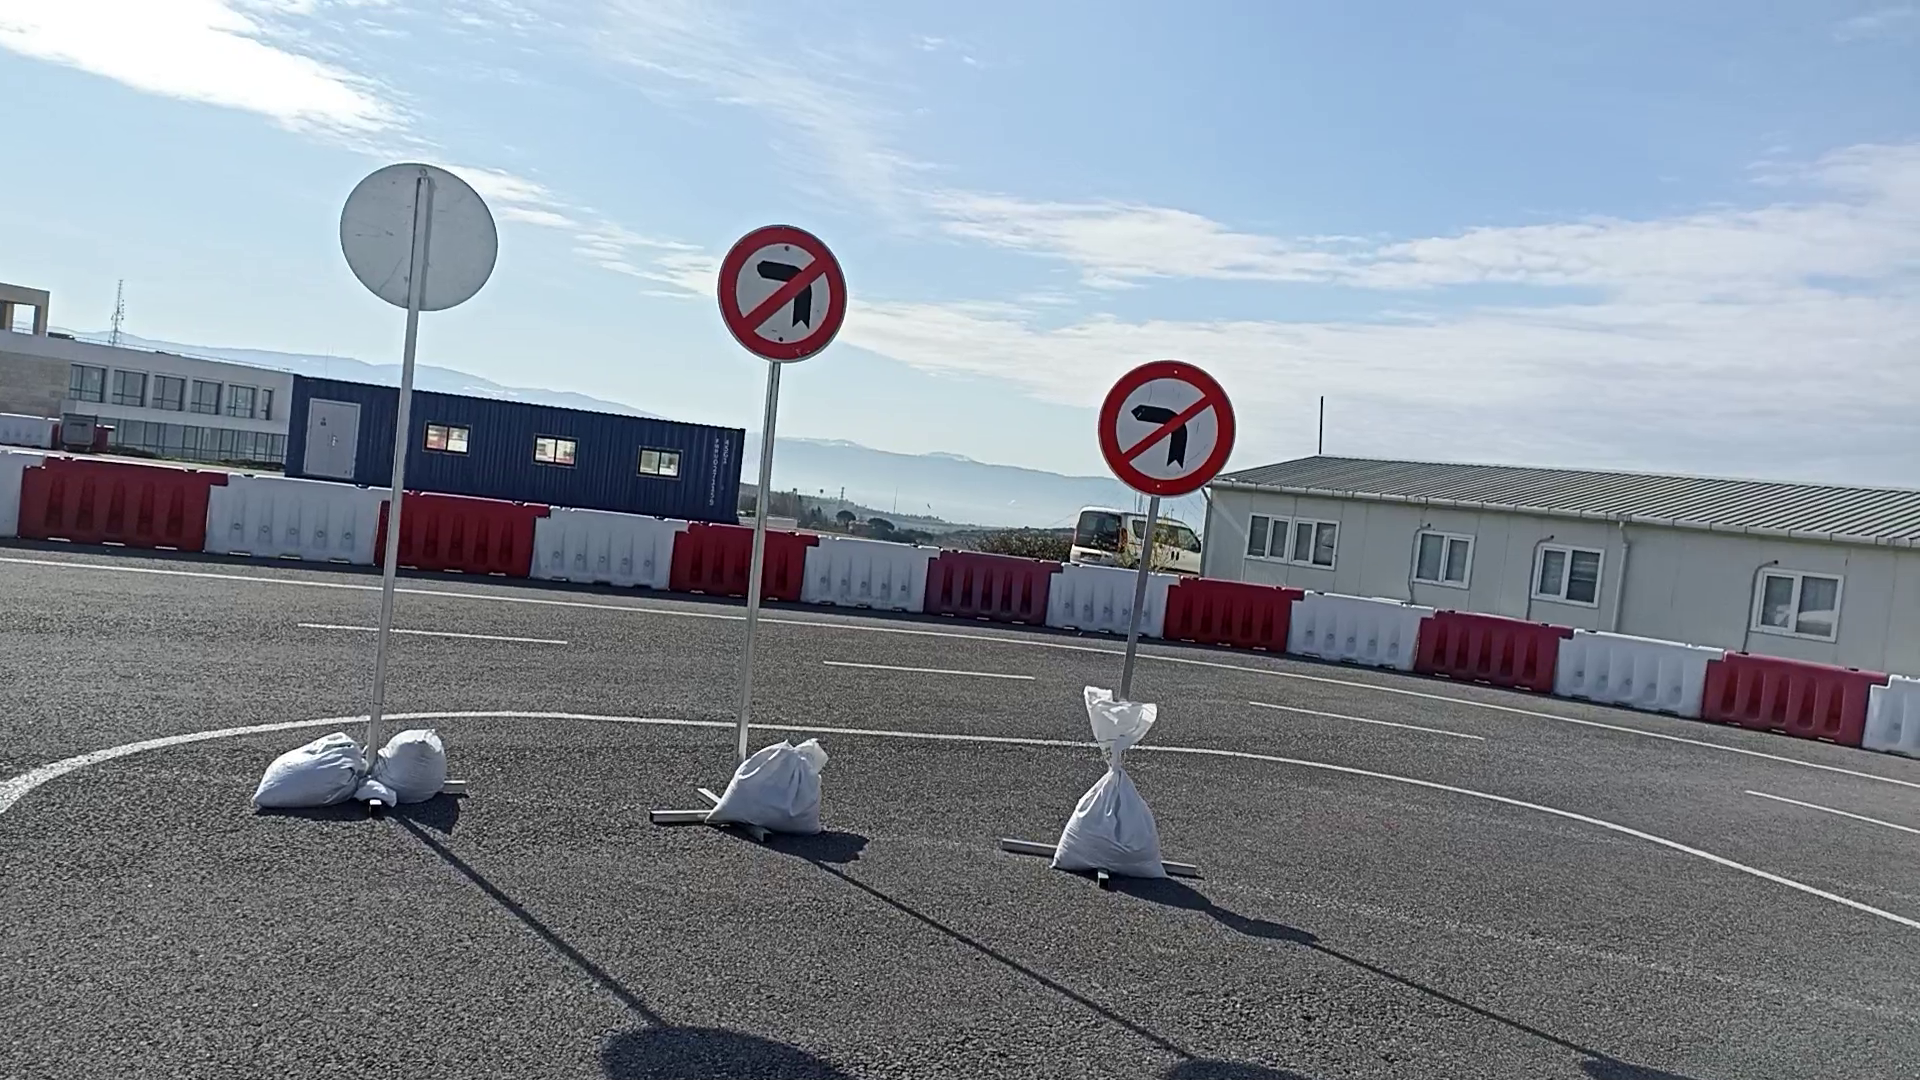noleft: (1093, 357, 1240, 498), (715, 222, 851, 367)
